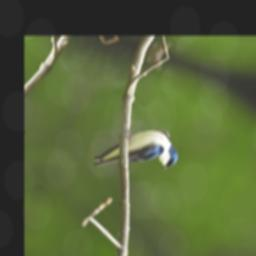Swallow: (89, 110, 187, 193)
